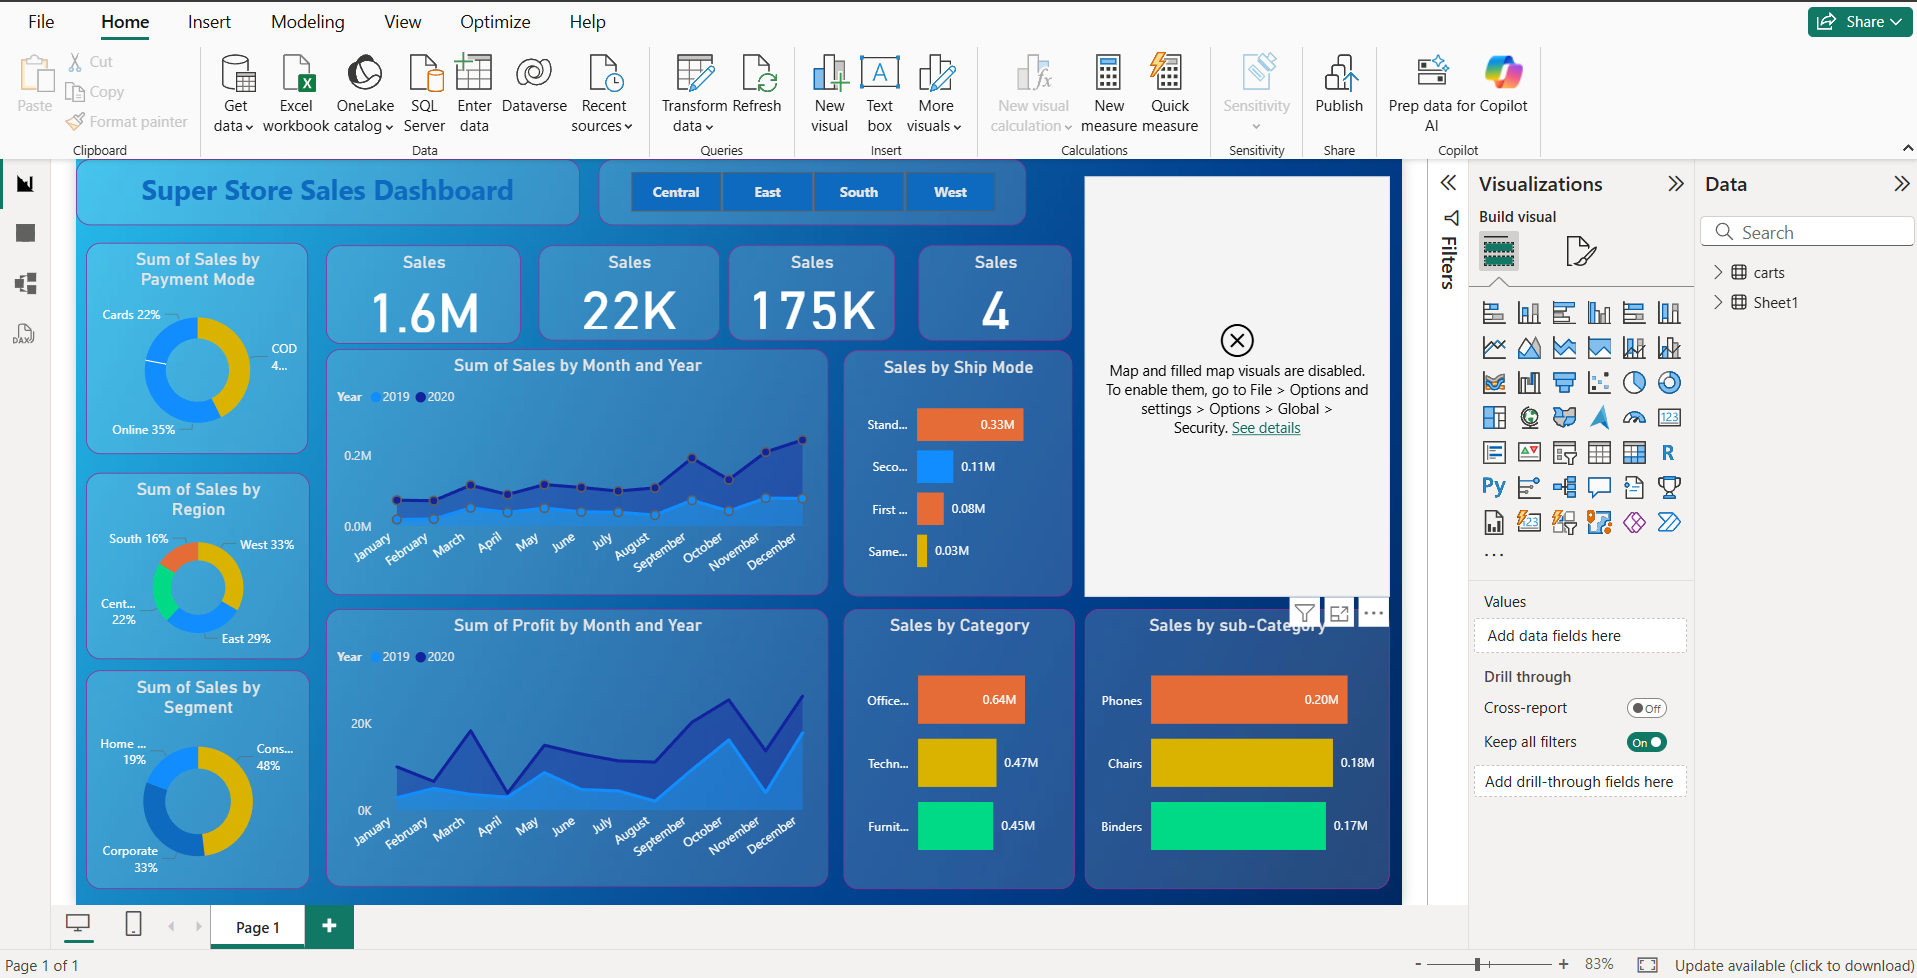

The dashboard page shown, as its layout file describes it:
{"tool":"powerbi","page":{"name":"Page 1","canvas":[1280,720],"ordinal":0},"visuals":[{"type":"clusteredBarChart","title":" Sales by Category","fields":{"Category":["Sheet1.Category"],"Y":["Sum(Sheet1.Sales)"]},"box":[740.8,434.3,223.2,270.2],"z":0},{"type":"clusteredBarChart","title":" Sales by sub-Category","fields":{"Y":["Sum(Sheet1.Sales)"],"Category":["Sheet1.Sub-Category"]},"box":[973.6,434.3,294.4,270.2],"z":1000},{"type":"clusteredBarChart","title":" Sales by Ship Mode","fields":{"Y":["Sum(Sheet1.Sales)"],"Category":["Sheet1.Ship Mode"]},"box":[740.8,184.6,220.8,237.7],"z":2000},{"type":"stackedAreaChart","fields":{"Y":["Sum(Sheet1.Sales)"],"Category":["Sheet1.Order Date.Variation.Date Hierarchy.Month"],"Series":["Sheet1.Order Date.Variation.Date Hierarchy.Year"]},"box":[241.3,183.4,485,237.7],"z":3000},{"type":"stackedAreaChart","fields":{"Category":["Sheet1.Order Date.Variation.Date Hierarchy.Month"],"Series":["Sheet1.Order Date.Variation.Date Hierarchy.Year"],"Y":["Sum(Sheet1.Profit)"]},"box":[241.3,434.3,485,267.8],"z":4000},{"type":"map","fields":{"Category":["Sheet1.State"],"Size":["Sum(Sheet1.Sales)"]},"box":[973.6,16.9,294.4,405.4],"z":5000},{"type":"donutChart","fields":{"Category":["Sheet1.Segment"],"Y":["Sum(Sheet1.Sales)"]},"box":[9.7,493.4,216,211.1],"z":6000},{"type":"donutChart","fields":{"Y":["Sum(Sheet1.Sales)"],"Category":["Sheet1.Payment Mode"]},"box":[9.7,80.8,214.7,203.9],"z":7000},{"type":"slicer","fields":{"Values":["Sheet1.Region"]},"box":[504.3,0,412.6,63.9],"z":8000},{"type":"textbox","box":[0,0,486.2,63.9],"z":9000},{"type":"card","title":"Sales","fields":{"Values":["Sum(Sheet1.Sales)"]},"box":[241.3,83.2,188.2,95.3],"z":10000},{"type":"card","title":"Sales","fields":{"Values":["Sum(Sheet1.Quantity)"]},"box":[446.4,83.2,174.9,91.7],"z":11000},{"type":"card","title":"Sales","fields":{"Values":["Sum(Sheet1.Profit)"]},"box":[629.8,83.2,160.5,91.7],"z":12000},{"type":"card","title":"Sales","fields":{"Values":["Avg(Sheet1.AvgDelivery)"]},"box":[813.1,83.2,148.4,91.7],"z":13000},{"type":"donutChart","fields":{"Y":["Sum(Sheet1.Sales)"],"Category":["Sheet1.Region"]},"box":[9.7,302.8,216,179.8],"z":14000}]}

Visuals, with their boxes on the page's 1280x720 design canvas (x1, y1, x2, y2). These are canvas units, not pixel positions in the 1917x978 screenshot, which may show the page scaled, cropped or inside an application window:
" Sales by Category" clusteredBarChart: [741,434,964,704]
" Sales by sub-Category" clusteredBarChart: [974,434,1268,704]
" Sales by Ship Mode" clusteredBarChart: [741,185,962,422]
stackedAreaChart - Sum(Sheet1.Sales) x Sheet1.Order Date.Variation.Date Hierarchy.Month: [241,183,726,421]
stackedAreaChart - Sheet1.Order Date.Variation.Date Hierarchy.Month x Sheet1.Order Date.Variation.Date Hierarchy.Year: [241,434,726,702]
map - Sheet1.State x Sum(Sheet1.Sales): [974,17,1268,422]
donutChart - Sheet1.Segment x Sum(Sheet1.Sales): [10,493,226,704]
donutChart - Sum(Sheet1.Sales) x Sheet1.Payment Mode: [10,81,224,285]
slicer - Sheet1.Region: [504,0,917,64]
textbox: [0,0,486,64]
"Sales" card: [241,83,430,178]
"Sales" card: [446,83,621,175]
"Sales" card: [630,83,790,175]
"Sales" card: [813,83,962,175]
donutChart - Sum(Sheet1.Sales) x Sheet1.Region: [10,303,226,483]
